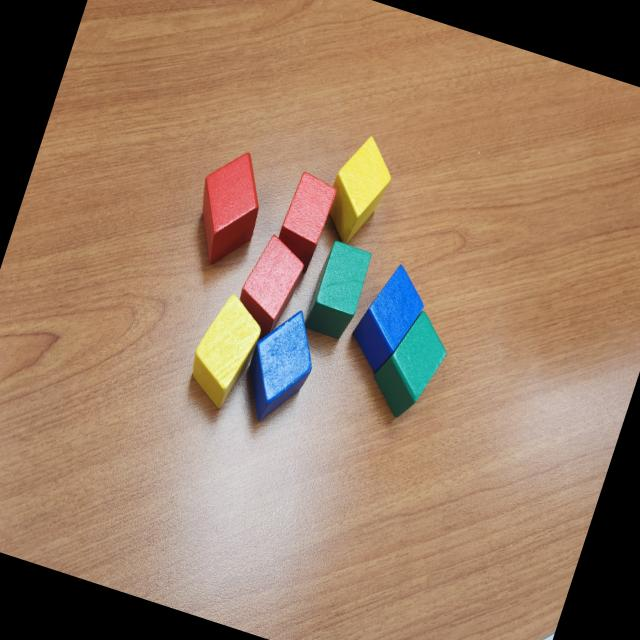blue: (233, 302, 327, 433), (343, 258, 435, 382)
green: (359, 299, 458, 427), (301, 238, 376, 344)
red: (182, 143, 277, 274), (226, 229, 312, 349), (269, 170, 340, 277)
yellow: (181, 287, 271, 414), (318, 130, 402, 250)
